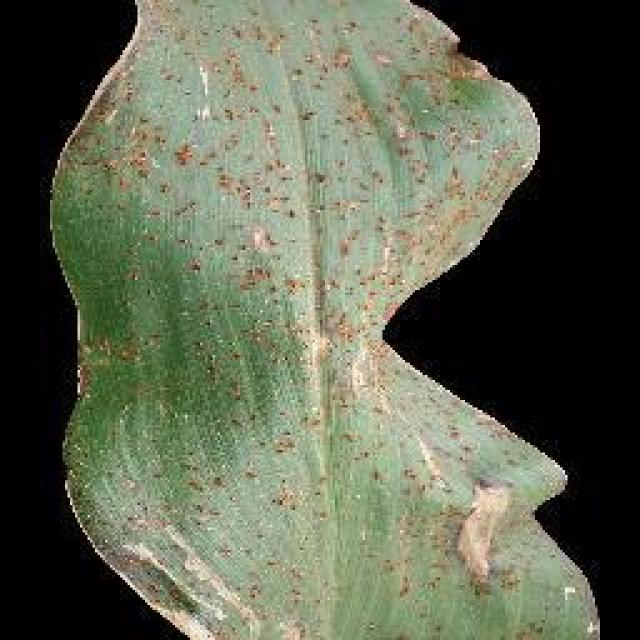Corn Common Rust: (133, 40, 497, 550)
